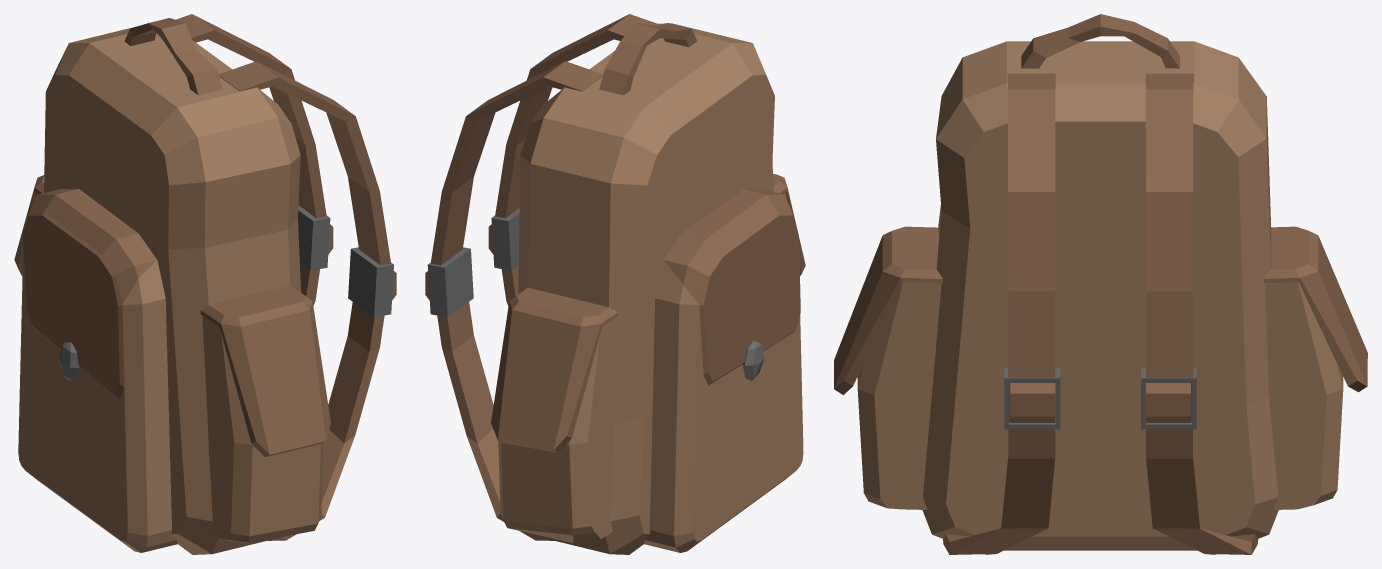
Rendered from Backpack-transformed.glb.
The picture shows the model from 3 angles, left to right: view 1: azimuth 30°, elevation 25°; view 2: azimuth 150°, elevation 25°; view 3: azimuth 270°, elevation 25°; orthographic projection. The views are drawn at different scales.
Parts seen in each view (by area): view 1: Backpack_Cube.006; view 2: Backpack_Cube.006; view 3: Backpack_Cube.006.
Boxes of the visible parts, x1,y1,x2,y2 form: Backpack_Cube.006: (14, 14, 396, 554); Backpack_Cube.006: (425, 14, 805, 554); Backpack_Cube.006: (834, 14, 1367, 554).
Size of the model in its own units: 0.926 by 1.46 by 1.36.
